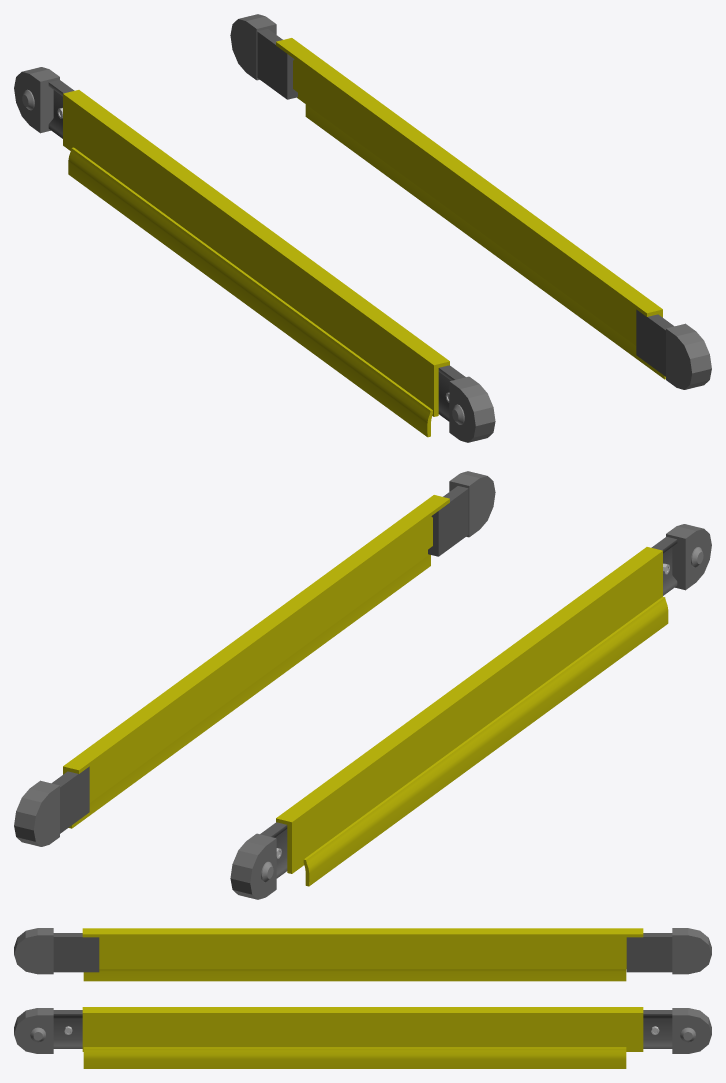
Rendered from ConBeltSides (1).fbx.
The picture shows the model from 3 angles, top to bottom: view 1: azimuth 30°, elevation 25°; view 2: azimuth 150°, elevation 25°; view 3: azimuth 270°, elevation 25°; orthographic projection. The views are drawn at different scales.
Parts seen in each view (by area): view 1: SidesConBelt01; view 2: SidesConBelt01; view 3: SidesConBelt01.
Part boxes in pixels (bbox=[...]): SidesConBelt01: bbox=[14, 14, 711, 442]; SidesConBelt01: bbox=[14, 471, 711, 899]; SidesConBelt01: bbox=[14, 928, 711, 1068].
Bounding box in the file's own units: 9.96 × 2.76 × 32.51.
